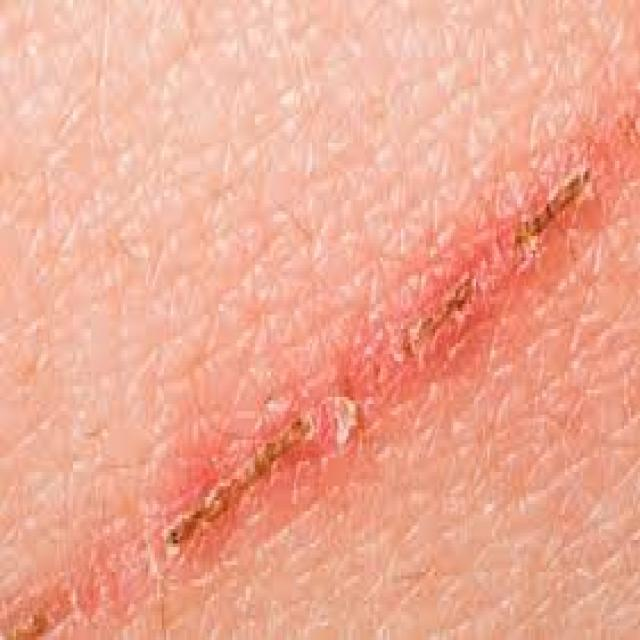wound: (366, 129, 614, 365), (140, 374, 380, 598)
